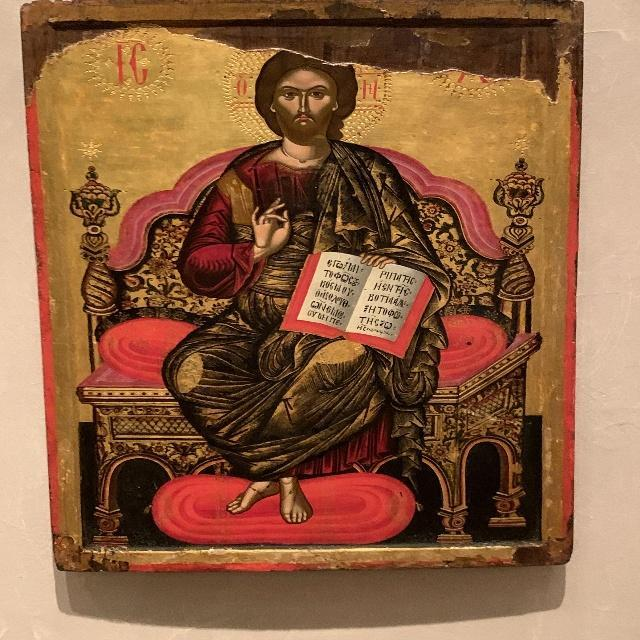aura: (220, 40, 394, 141)
book: (282, 248, 443, 342)
christ: (149, 36, 467, 538)
hand: (245, 193, 303, 260)
